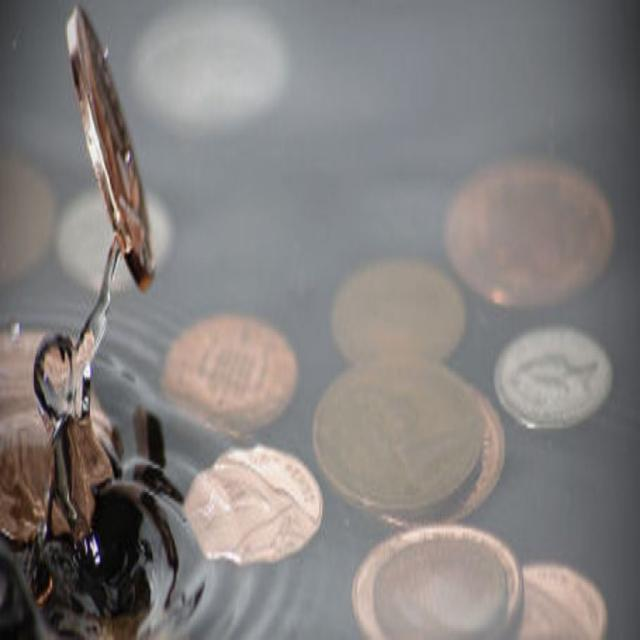Coin: (318, 350, 484, 519), (440, 158, 617, 310), (60, 3, 152, 293), (349, 522, 520, 637), (174, 441, 321, 573), (495, 307, 625, 438), (332, 246, 466, 371), (156, 313, 300, 421), (513, 552, 610, 637)
